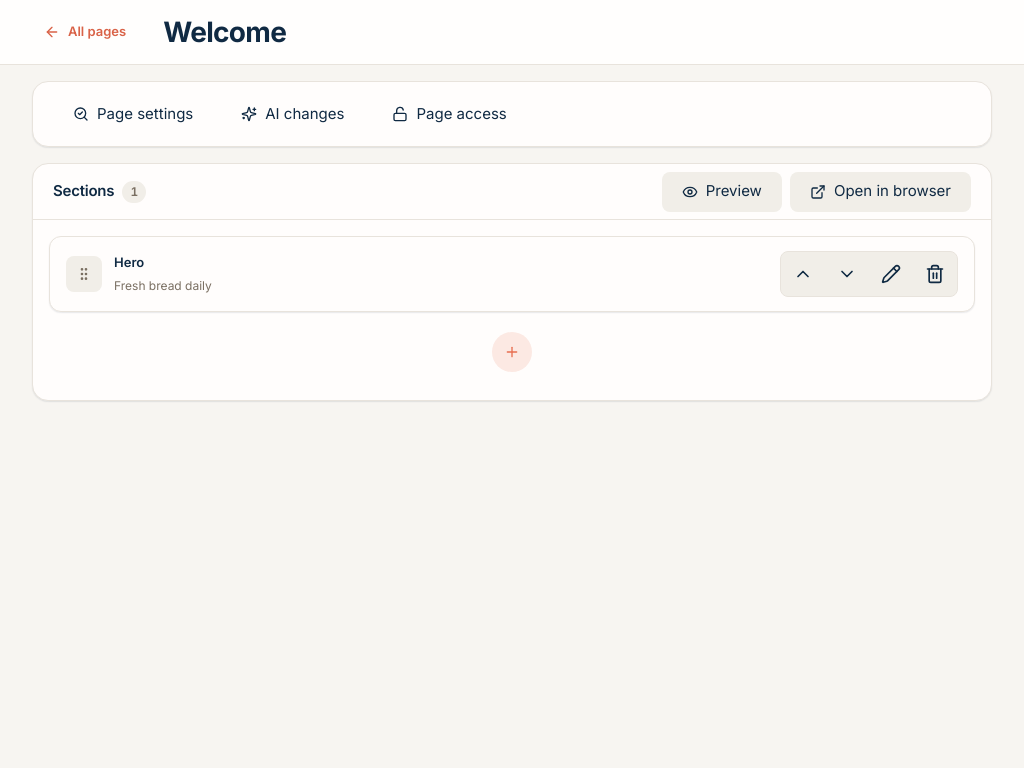
Test case: describing a picture › an undescribed picture says so
This screenshot has width=1024, height=768.
Expected: the text "Hero" is shown, [114,253,144,273]
Step 1. Click the button named "Edit Hero" → (891, 274), box [871,254,911,294]
(page scrolled)
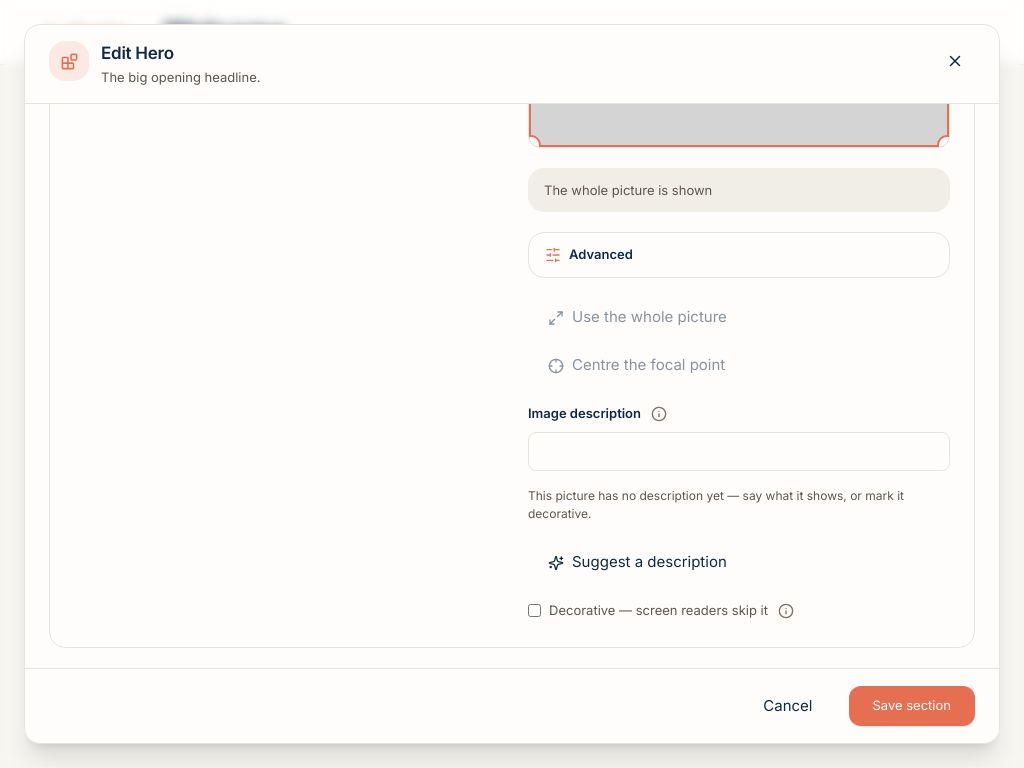
Expected: the field named "Image description" is shown, [528,432,950,470]
Result: the text "This picture has no description yet — say what it shows, or mark it decorative." is shown at [528,486,950,522]
